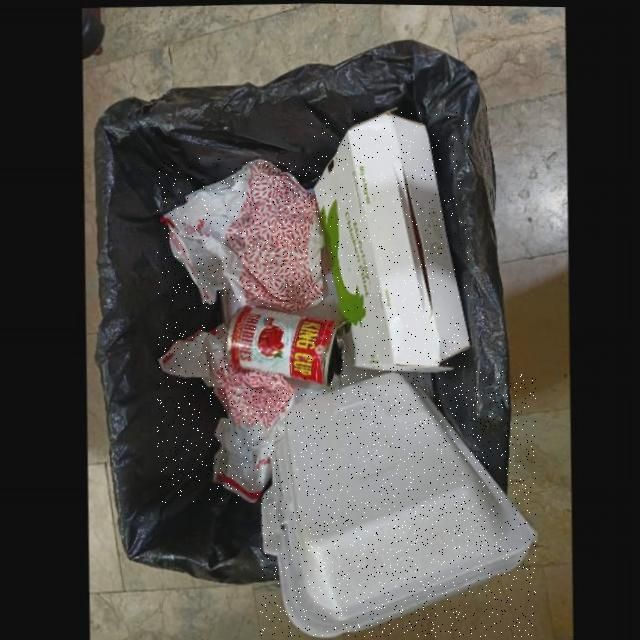metal: (227, 305, 340, 388)
paper: (312, 111, 469, 371), (157, 158, 323, 310), (157, 321, 294, 502)
styrofoam: (261, 371, 536, 637)
